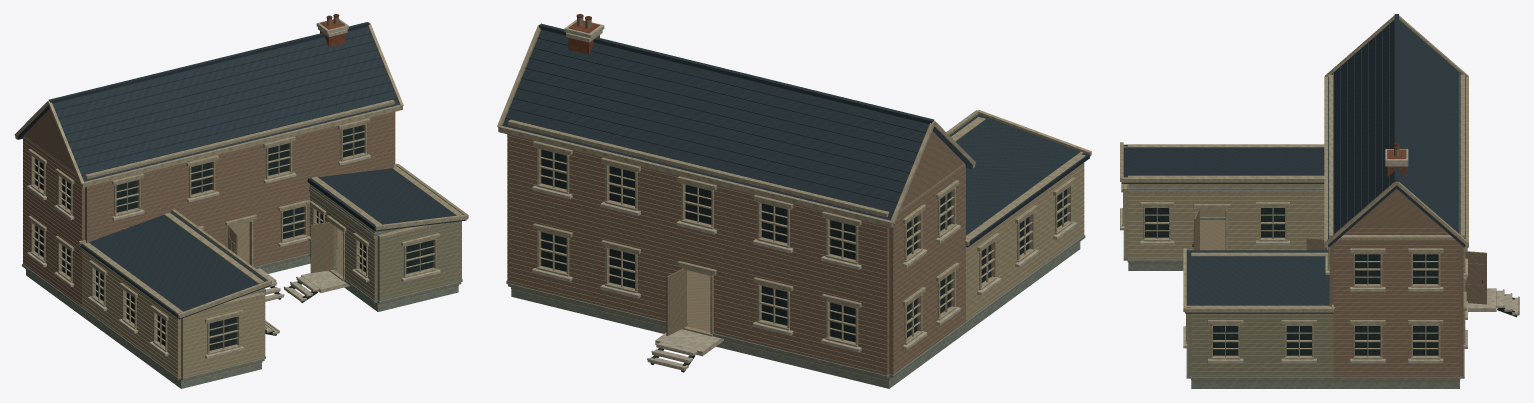
3 views of the same model, side by side, from view 1: azimuth 30°, elevation 25°; view 2: azimuth 150°, elevation 25°; view 3: azimuth 270°, elevation 25° (orthographic). The views are drawn at different scales.
Visible parts, largest first — view 1: A009-16_02_Clapboard, A009-16_11_Roof_Rear_Main_Bar, A009-16_04_Architectural_Trim, A009-16_11_Roof_Long_Left_Return, A009-16_03_Window_Door_Frames, A009-16_06_Glazing, A009-16_12_Roof_Edges, A009-16_11_Roof_Short_Right_Return, A009-16_01_Wall_Shell, A009-16_00_Foundation, A009-16_07_Floors, A009-16_05_Door_Leaf_03 (+2 smaller); view 2: A009-16_02_Clapboard, A009-16_11_Roof_Rear_Main_Bar, A009-16_04_Architectural_Trim, A009-16_03_Window_Door_Frames, A009-16_06_Glazing, A009-16_11_Roof_Long_Left_Return, A009-16_12_Roof_Edges, A009-16_00_Foundation, A009-16_01_Wall_Shell, A009-16_07_Floors, A009-16_05_Door_Leaf_01, A009-16_13_Chimneys (+1 smaller); view 3: A009-16_02_Clapboard, A009-16_11_Roof_Rear_Main_Bar, A009-16_04_Architectural_Trim, A009-16_11_Roof_Short_Right_Return, A009-16_11_Roof_Long_Left_Return, A009-16_06_Glazing, A009-16_01_Wall_Shell, A009-16_12_Roof_Edges, A009-16_03_Window_Door_Frames, A009-16_00_Foundation, A009-16_07_Floors, A009-16_05_Door_Leaf_01 (+2 smaller).
Part boxes in pixels (x1,y1,x2,y2): A009-16_02_Clapboard: (23, 112, 461, 377); A009-16_11_Roof_Rear_Main_Bar: (17, 22, 399, 185); A009-16_04_Architectural_Trim: (22, 99, 462, 380); A009-16_11_Roof_Long_Left_Return: (80, 212, 270, 319); A009-16_03_Window_Door_Frames: (30, 123, 436, 354); A009-16_06_Glazing: (35, 125, 433, 350); A009-16_12_Roof_Edges: (14, 22, 468, 318); A009-16_11_Roof_Short_Right_Return: (307, 168, 466, 231); A009-16_01_Wall_Shell: (24, 109, 461, 377); A009-16_00_Foundation: (26, 257, 458, 388); A009-16_07_Floors: (178, 222, 458, 382); A009-16_05_Door_Leaf_03: (310, 222, 333, 273); A009-16_02_Clapboard: (507, 134, 1084, 375); A009-16_11_Roof_Rear_Main_Bar: (502, 23, 972, 225); A009-16_04_Architectural_Trim: (506, 117, 1085, 378); A009-16_03_Window_Door_Frames: (536, 147, 1072, 346); A009-16_06_Glazing: (541, 149, 1066, 342); A009-16_11_Roof_Long_Left_Return: (949, 114, 1089, 247); A009-16_12_Roof_Edges: (497, 24, 1091, 245); A009-16_00_Foundation: (511, 242, 1080, 388); A009-16_01_Wall_Shell: (508, 131, 1068, 375); A009-16_07_Floors: (511, 270, 892, 380); A009-16_05_Door_Leaf_01: (666, 268, 686, 335); A009-16_13_Chimneys: (564, 14, 604, 54); A009-16_02_Clapboard: (1124, 184, 1463, 377); A009-16_11_Roof_Rear_Main_Bar: (1328, 14, 1465, 247); A009-16_04_Architectural_Trim: (1120, 73, 1467, 380); A009-16_11_Roof_Short_Right_Return: (1185, 250, 1333, 313); A009-16_11_Roof_Long_Left_Return: (1122, 144, 1324, 183); A009-16_06_Glazing: (1145, 208, 1438, 355); A009-16_01_Wall_Shell: (1125, 185, 1462, 376); A009-16_12_Roof_Edges: (1120, 15, 1468, 312); A009-16_03_Window_Door_Frames: (1122, 192, 1465, 359); A009-16_00_Foundation: (1128, 264, 1459, 388); A009-16_07_Floors: (1128, 220, 1496, 382); A009-16_05_Door_Leaf_01: (1465, 251, 1486, 304).
Size of the model in its own units: 15.09 by 9.62 by 15.19.
13 materials, 13 textured.
